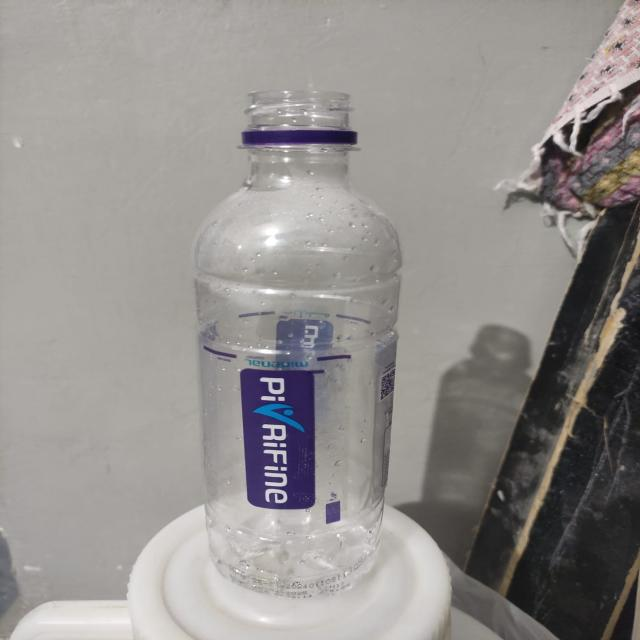bottle: (197, 62, 410, 606)
label: (200, 314, 408, 538)
